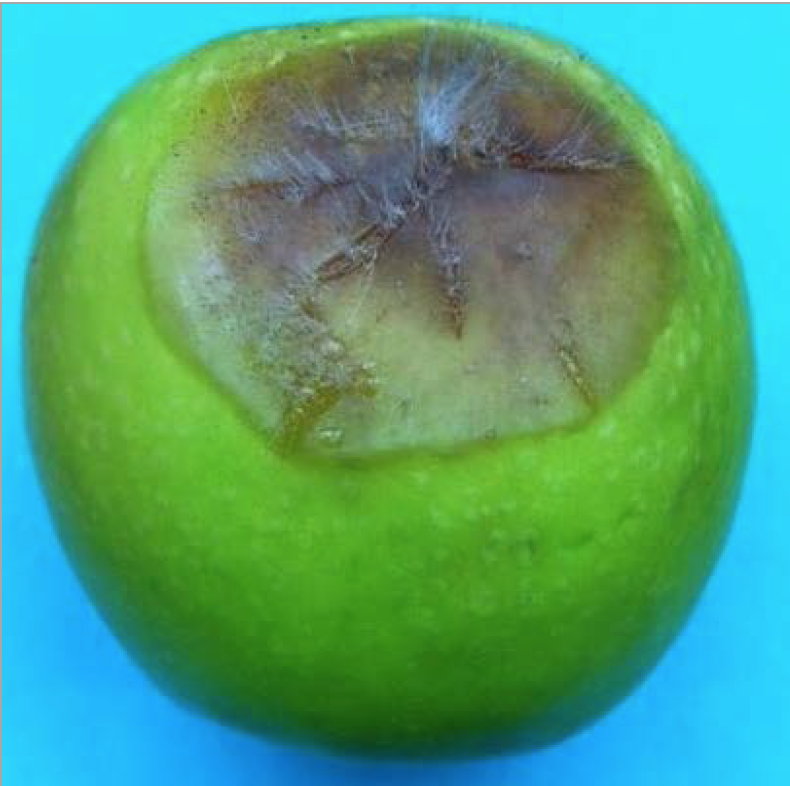Mucor: (249, 80, 558, 329)
